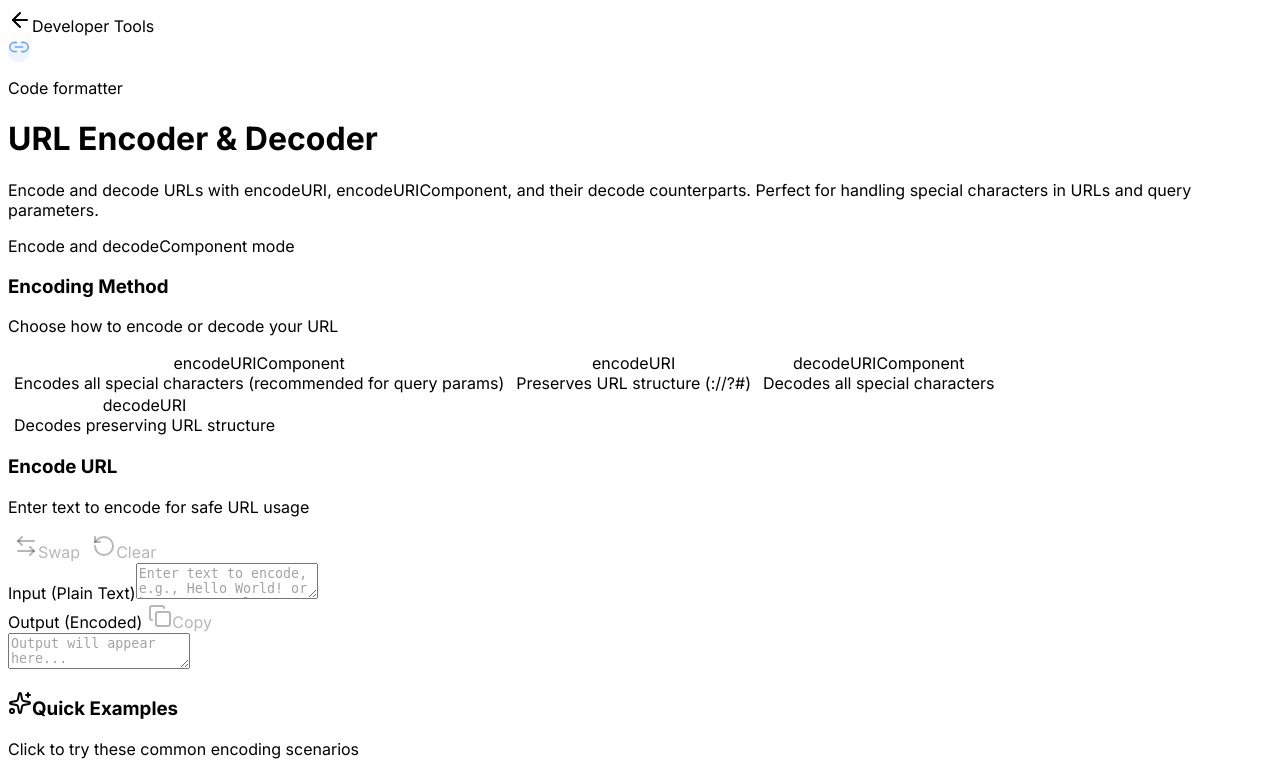
Test: URLEncoderPage › Encoding Methods › encodes special characters correctly with encodeURIComponent
The width and height of the screenshot is (1280, 776).
Type "name=John&age=30" into the text box labelled "Input (Plain Text)" at (227, 581), box left=136, top=563, right=318, bottom=599
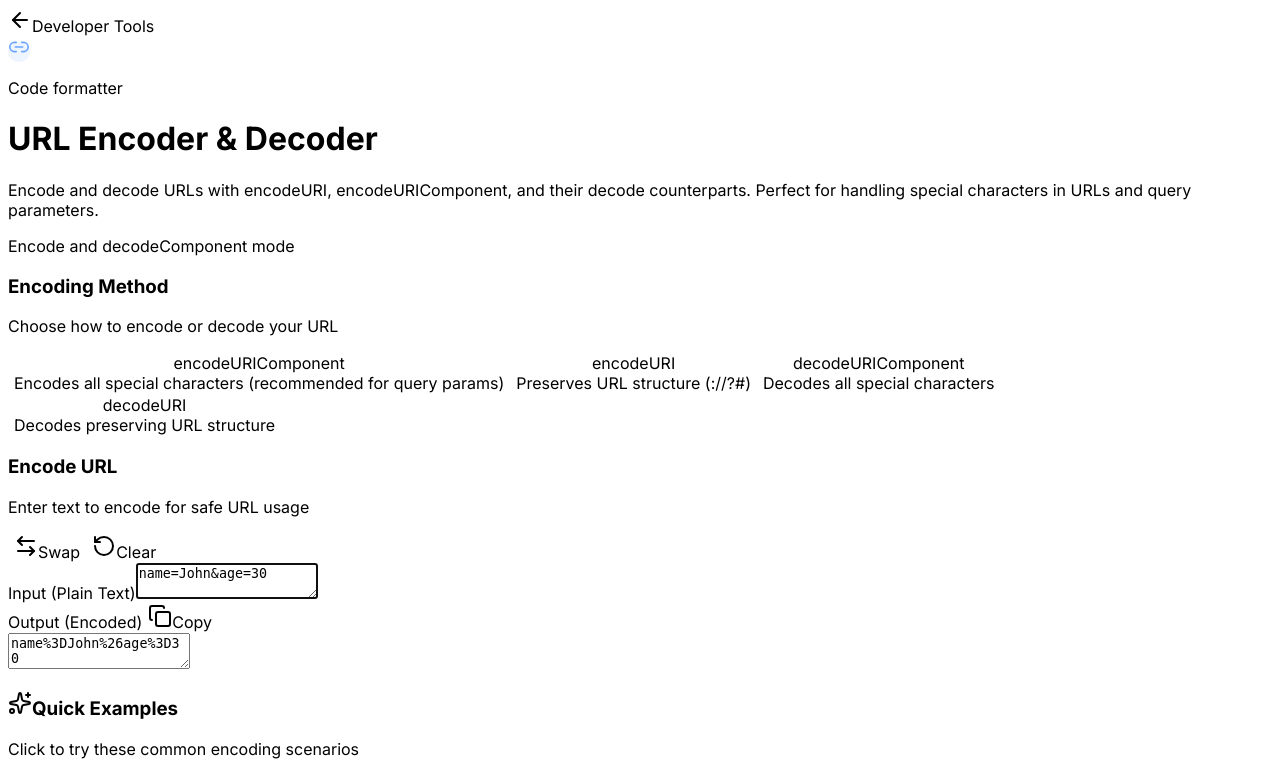
Expected: the text box labelled "Output (Encoded)" holds "name%3DJohn%26age%3D30", left=8, top=633, right=190, bottom=669
